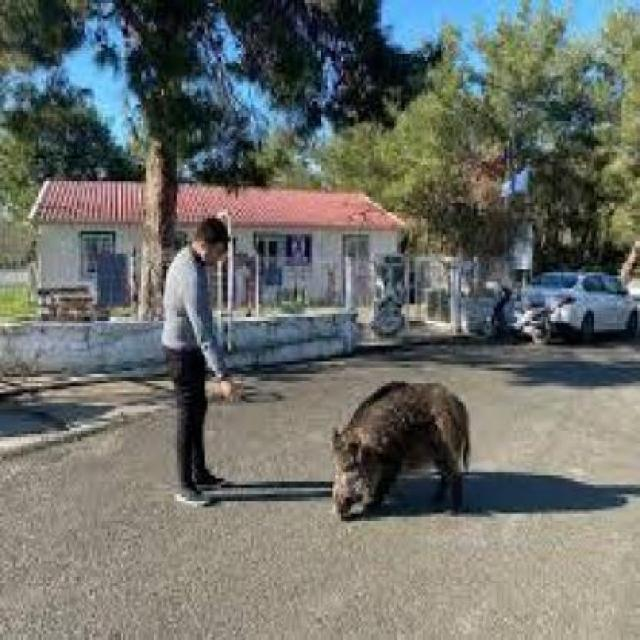wildboar: (322, 373, 480, 532)
